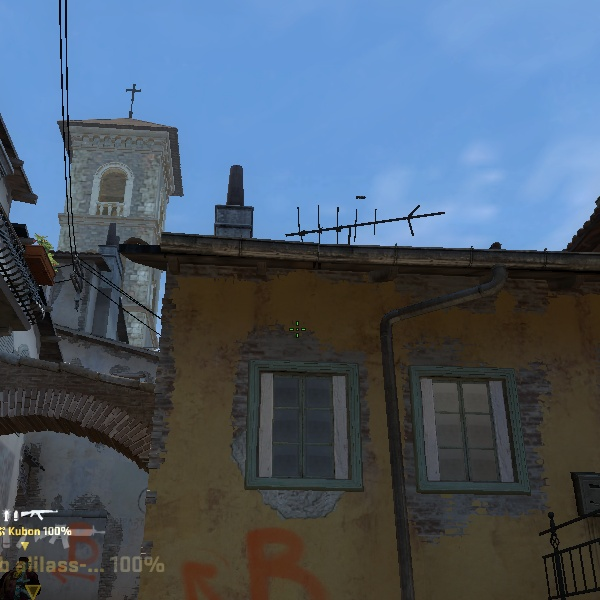t_body: (3, 548, 47, 599)
